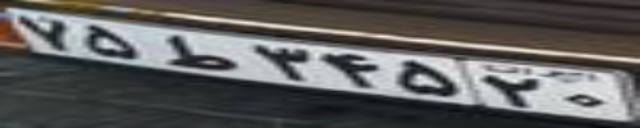0: (560, 91, 609, 108)
2: (484, 75, 540, 106)
3: (251, 45, 311, 80)
4: (318, 52, 382, 87)
5: (393, 61, 457, 96), (80, 25, 137, 59)
7: (15, 16, 73, 50)
taa: (161, 35, 232, 69)
